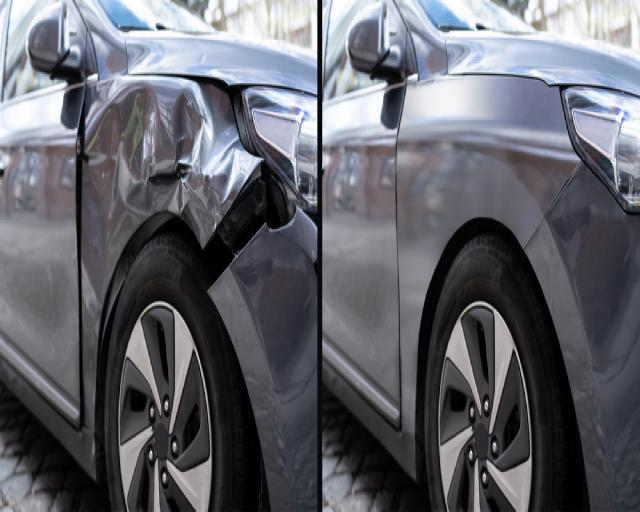dent: (81, 81, 248, 338)
